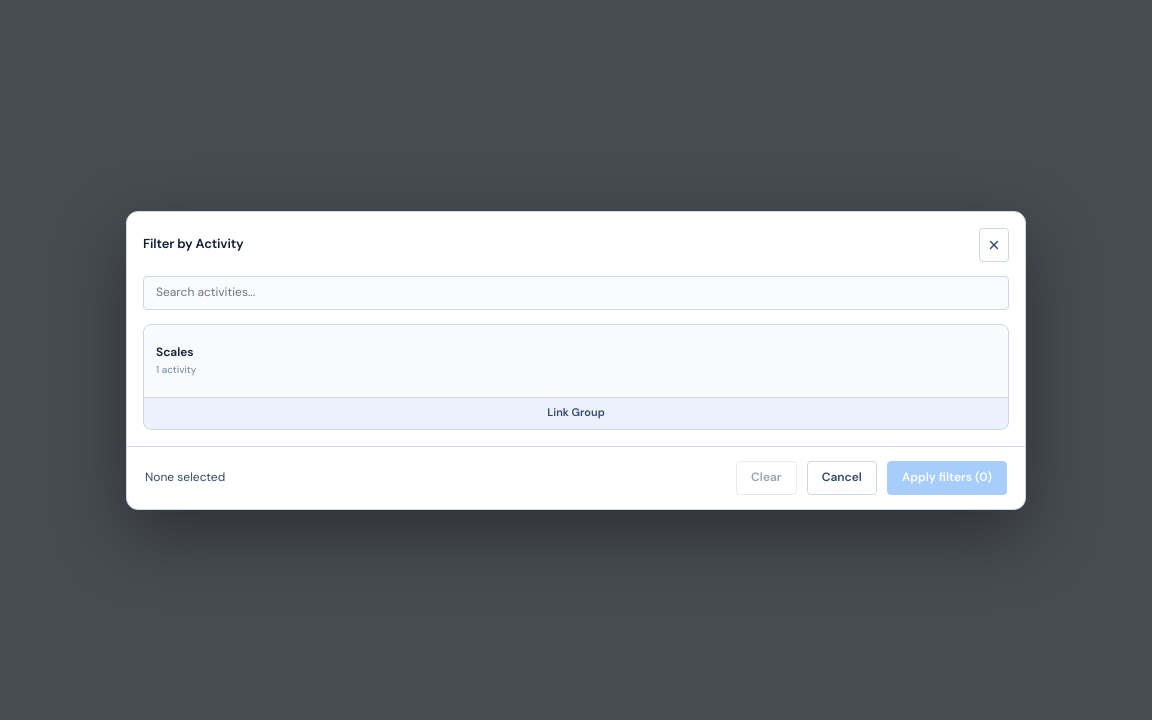
Test case: ActivityFilterModal › treats groups with missing parents as root-level groups
The width and height of the screenshot is (1152, 720).
Expected: the text "Scales" is shown, top-left (156, 345), bottom-right (194, 360)
Click the button "Scales 1 activity": (175, 352) top-left (144, 324), bottom-right (1008, 396)
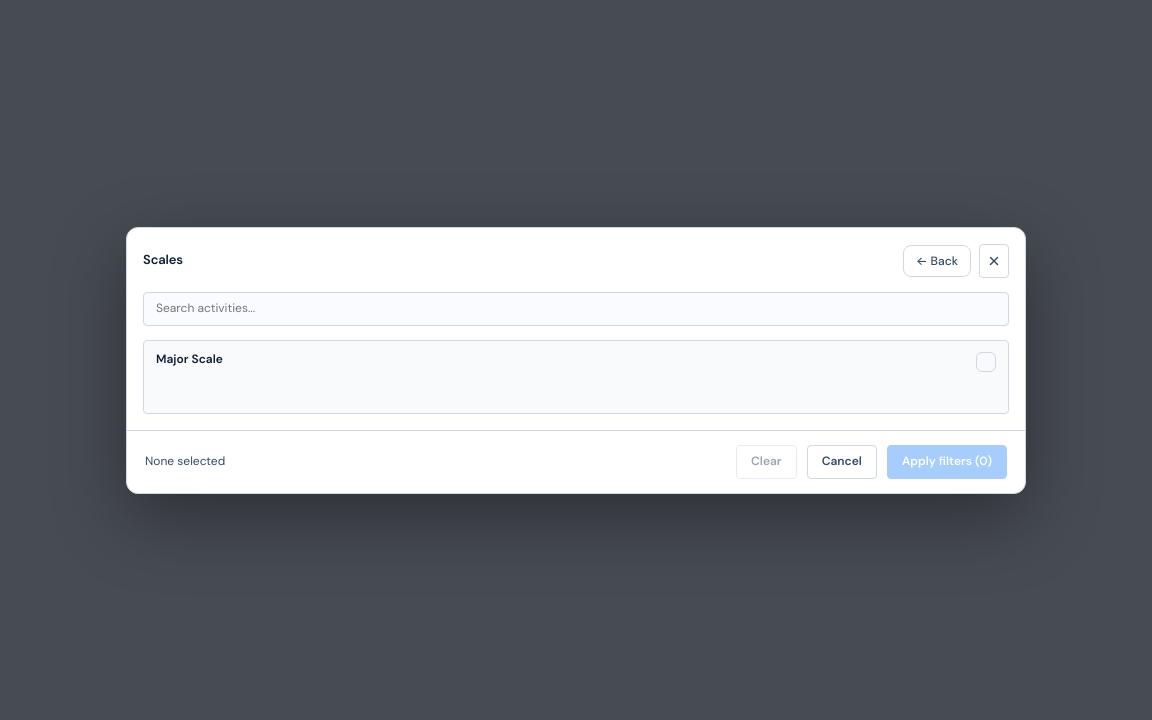
Expected: the text "Major Scale" is shown, top-left (156, 350), bottom-right (223, 366)
